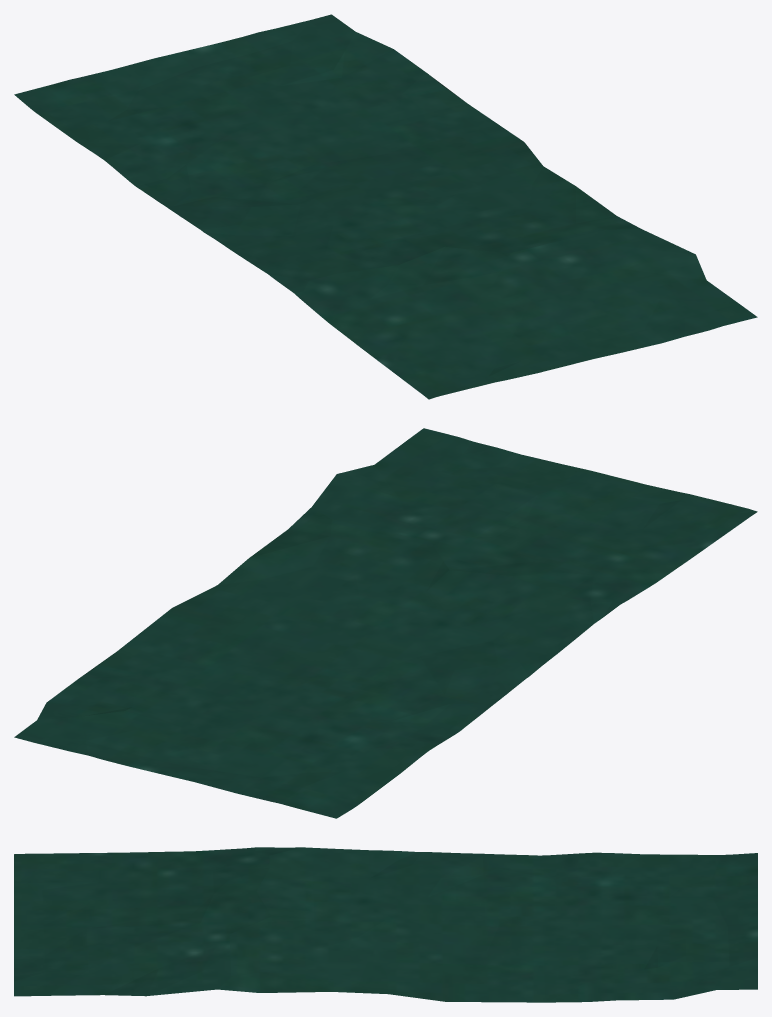
3 renders of one model, top to bottom at view 1: azimuth 30°, elevation 25°; view 2: azimuth 150°, elevation 25°; view 3: azimuth 270°, elevation 25°, orthographic. The views are drawn at different scales.
Size of the model in its own units: 24.77 by 0.838 by 52.22.
Materials: 1 (1 with a texture image).
